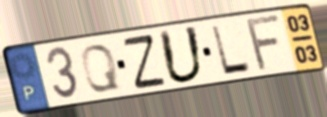3: (43, 44, 82, 104)
F: (245, 12, 284, 74)
L: (209, 23, 254, 77)
Q: (78, 42, 123, 94)
U: (156, 24, 207, 86)
Z: (120, 31, 169, 92)
